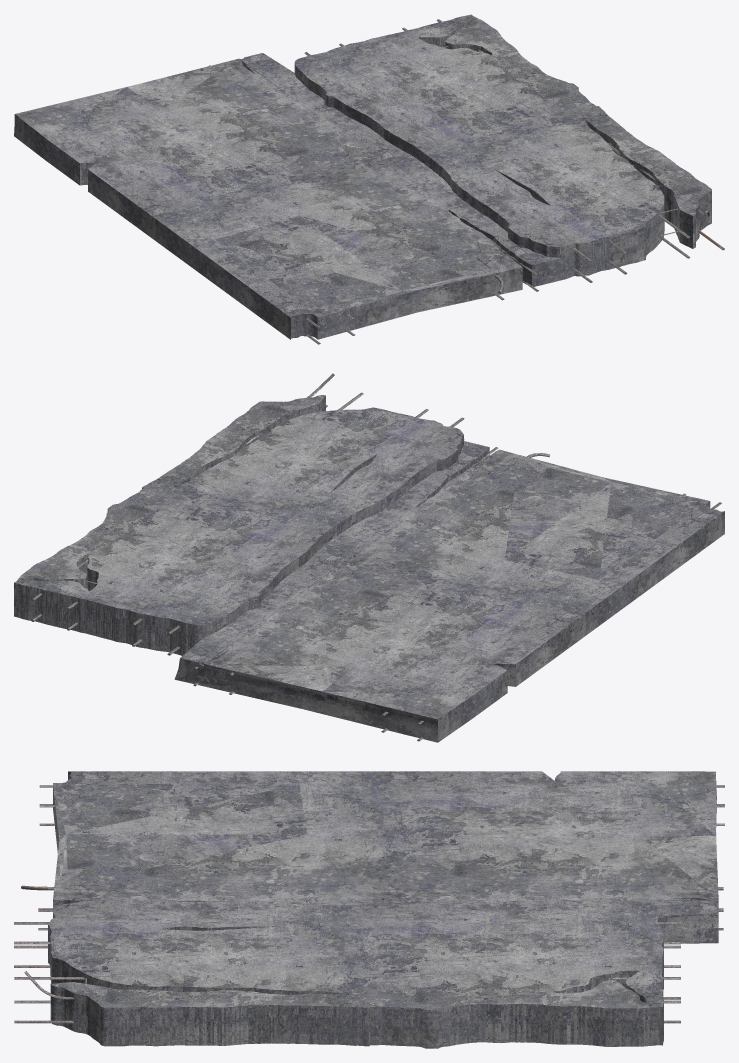
Rendered from slab-concrete.fbx.
The picture shows the model from 3 angles, top to bottom: view 1: azimuth 30°, elevation 25°; view 2: azimuth 150°, elevation 25°; view 3: azimuth 270°, elevation 25°; orthographic projection. The views are drawn at different scales.
Visible parts, largest first — view 1: slab_1, slab_2; view 2: slab_1, slab_2; view 3: slab_1, slab_2.
Part boxes in pixels (x1,y1,x2,y2): slab_1: [14, 53, 563, 344]; slab_2: [294, 14, 724, 282]; slab_1: [174, 441, 724, 742]; slab_2: [14, 373, 464, 655]; slab_1: [21, 771, 724, 943]; slab_2: [14, 898, 680, 1048].
Bounding box in the file's own units: 231 × 22.72 × 276.
